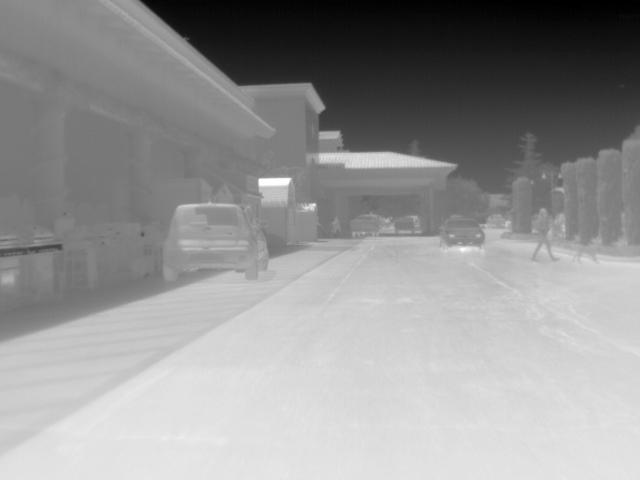car: (157, 204, 271, 284), (440, 215, 487, 249), (348, 213, 382, 239), (391, 215, 418, 235), (489, 213, 507, 229)
person: (531, 206, 562, 264), (330, 216, 344, 237)
